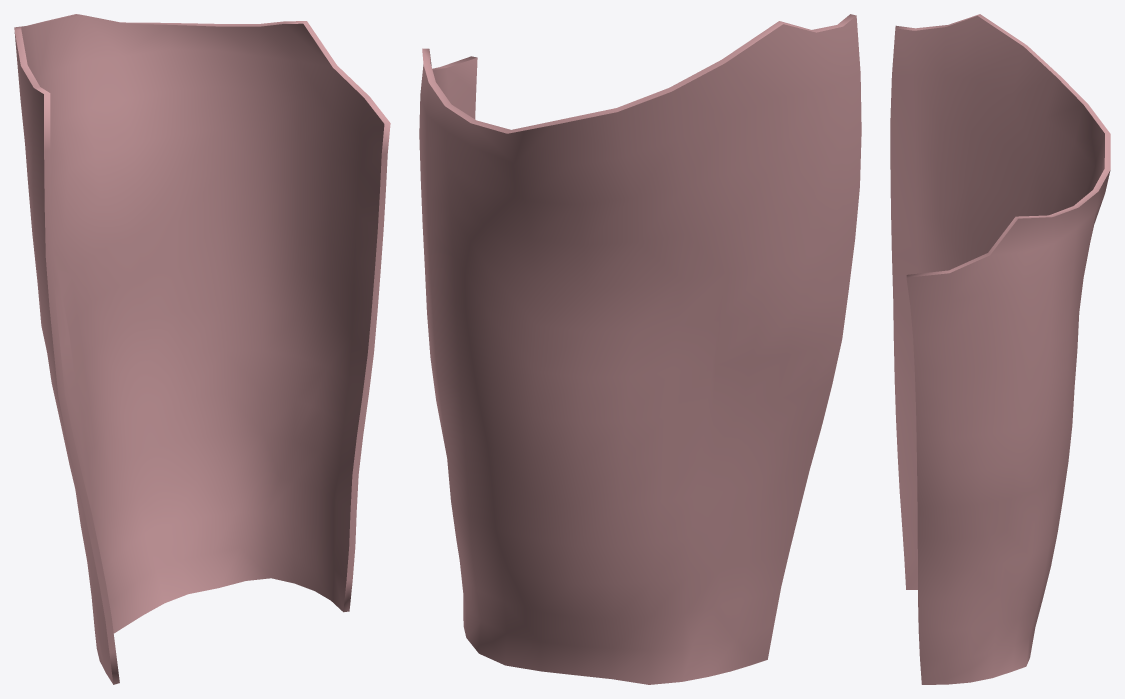
3 renders of one model, left to right at view 1: azimuth 30°, elevation 25°; view 2: azimuth 150°, elevation 25°; view 3: azimuth 270°, elevation 25°, orthographic. The views are drawn at different scales.
Visible parts, largest first — view 1: ZA_8307ddd468d031d2; view 2: ZA_8307ddd468d031d2; view 3: ZA_8307ddd468d031d2.
Part boxes in pixels (bbox=[...]): ZA_8307ddd468d031d2: bbox=[14, 14, 390, 684]; ZA_8307ddd468d031d2: bbox=[419, 14, 861, 684]; ZA_8307ddd468d031d2: bbox=[890, 14, 1110, 684].
Bounding box in the file's own units: 0.1798 × 0.3053 × 0.1106.
